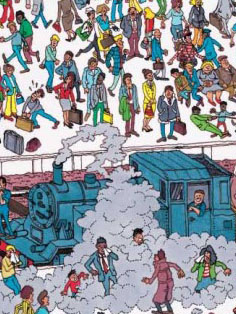waldo: (182, 29, 192, 43)
